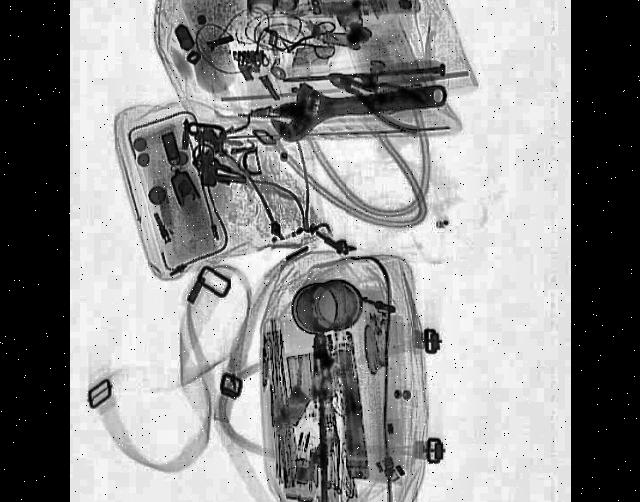Pliers: (323, 57, 427, 141)
Wrench: (269, 68, 449, 146)
